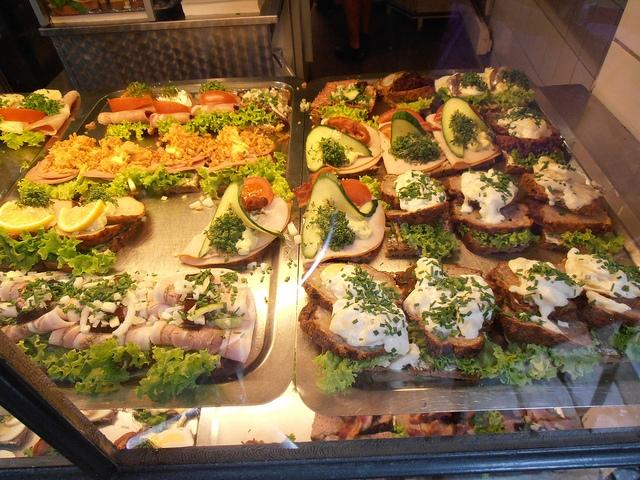cucumber: (198, 177, 286, 258), (302, 171, 378, 259), (305, 125, 373, 172), (441, 96, 490, 158), (391, 110, 426, 143)
lettuce: (134, 344, 222, 401), (312, 350, 396, 393), (187, 102, 280, 136), (16, 161, 90, 201), (400, 222, 460, 261), (75, 168, 150, 198), (548, 339, 600, 380), (76, 358, 130, 394), (560, 228, 628, 255), (464, 87, 534, 112), (466, 334, 507, 374), (522, 343, 558, 380), (358, 175, 392, 214), (508, 148, 568, 168), (70, 353, 114, 379), (104, 120, 150, 141), (0, 129, 45, 150), (15, 188, 56, 209), (152, 170, 194, 190), (501, 226, 532, 250), (155, 115, 181, 141), (397, 96, 435, 113), (68, 256, 96, 276), (483, 410, 506, 434), (68, 362, 92, 383), (270, 170, 289, 191), (344, 104, 368, 120), (498, 170, 518, 186), (607, 332, 629, 346), (488, 236, 504, 248), (253, 164, 266, 177), (48, 253, 58, 262), (438, 356, 448, 364), (346, 98, 354, 104)
tomato: (323, 116, 371, 146), (241, 177, 274, 208), (340, 178, 372, 206), (434, 104, 481, 122), (376, 108, 424, 124), (0, 108, 47, 122), (108, 98, 152, 112), (200, 90, 238, 105), (152, 100, 190, 114), (347, 130, 355, 136)
